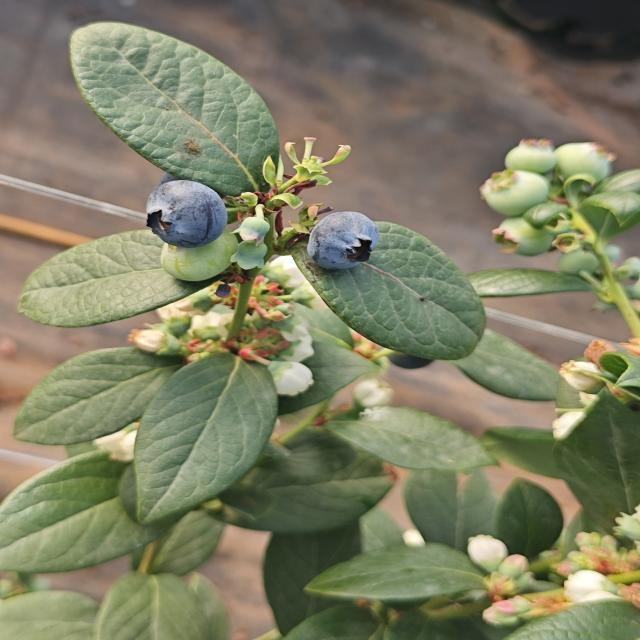ripe: (134, 172, 240, 249), (292, 208, 399, 272)
